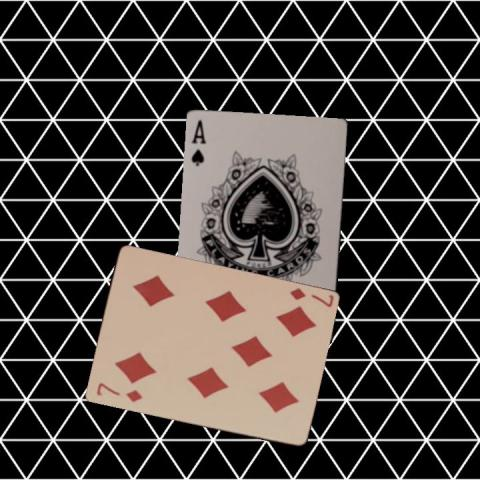7d: (94, 380, 144, 404), (286, 285, 335, 309)
As: (189, 117, 207, 168)
